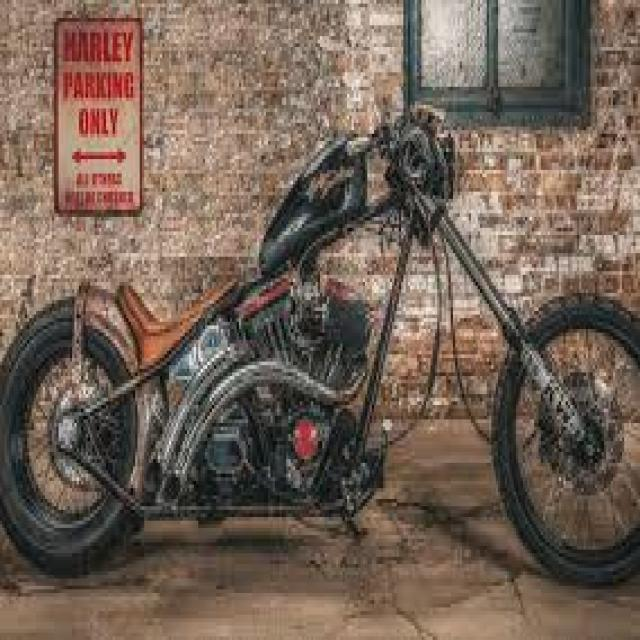Bike: (2, 99, 640, 593)
